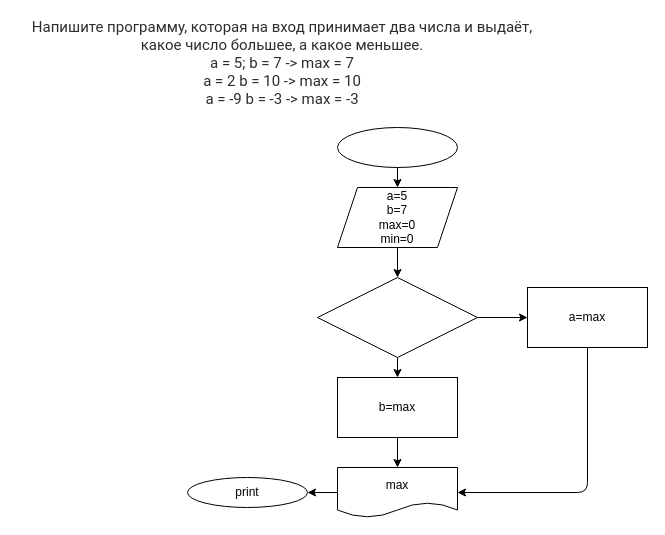
This 665x535 diagram has some shape labels left out. Here are the shapes that lost their labels. From the top down, the centre of each, then its label:
At point 397,147: "start".
At point 397,317: "a>b?".
